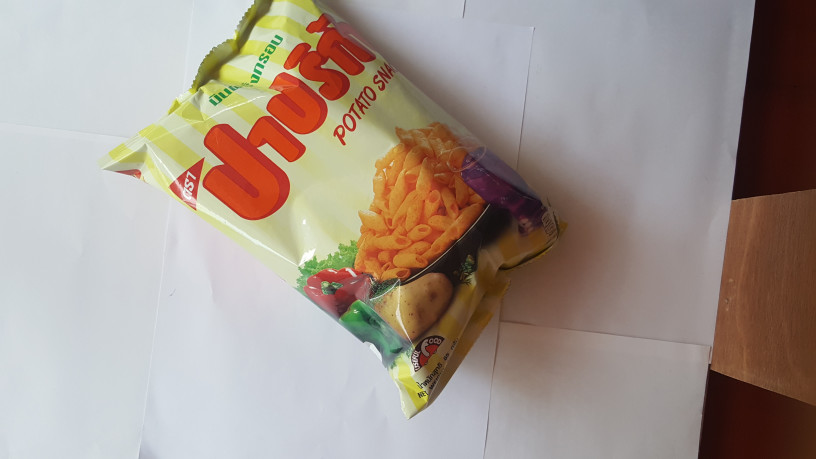paprika: (76, 1, 586, 434)
